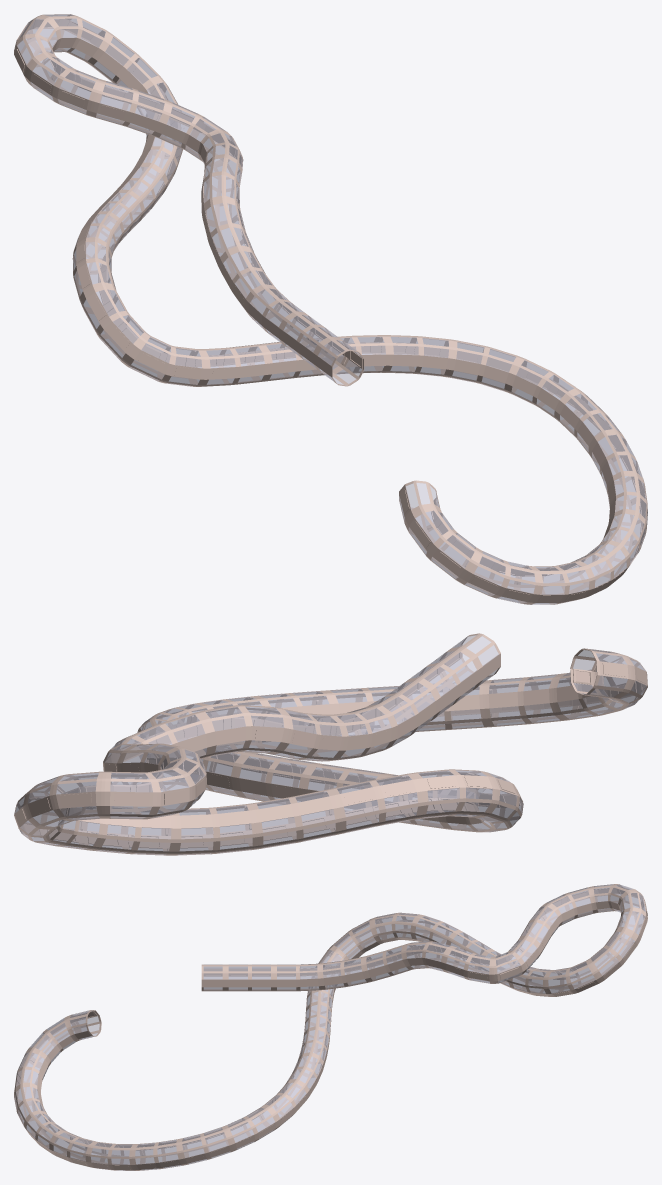
Rendered from levelOne.dae.
3 renders of one model, top to bottom at view 1: azimuth 30°, elevation 25°; view 2: azimuth 150°, elevation 25°; view 3: azimuth 270°, elevation 25°, orthographic. The views are drawn at different scales.
Visible parts, largest first — view 1: Cylinder; view 2: Cylinder; view 3: Cylinder.
Boxes of the visible parts, bbox=[...] form: Cylinder: bbox=[14, 14, 647, 604]; Cylinder: bbox=[14, 633, 647, 855]; Cylinder: bbox=[14, 884, 647, 1170].
Bounding box in the file's own units: 24.02 × 46.7 × 17.12.
